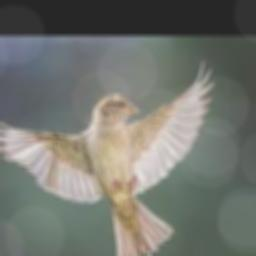Sparrow: (0, 60, 214, 256)
